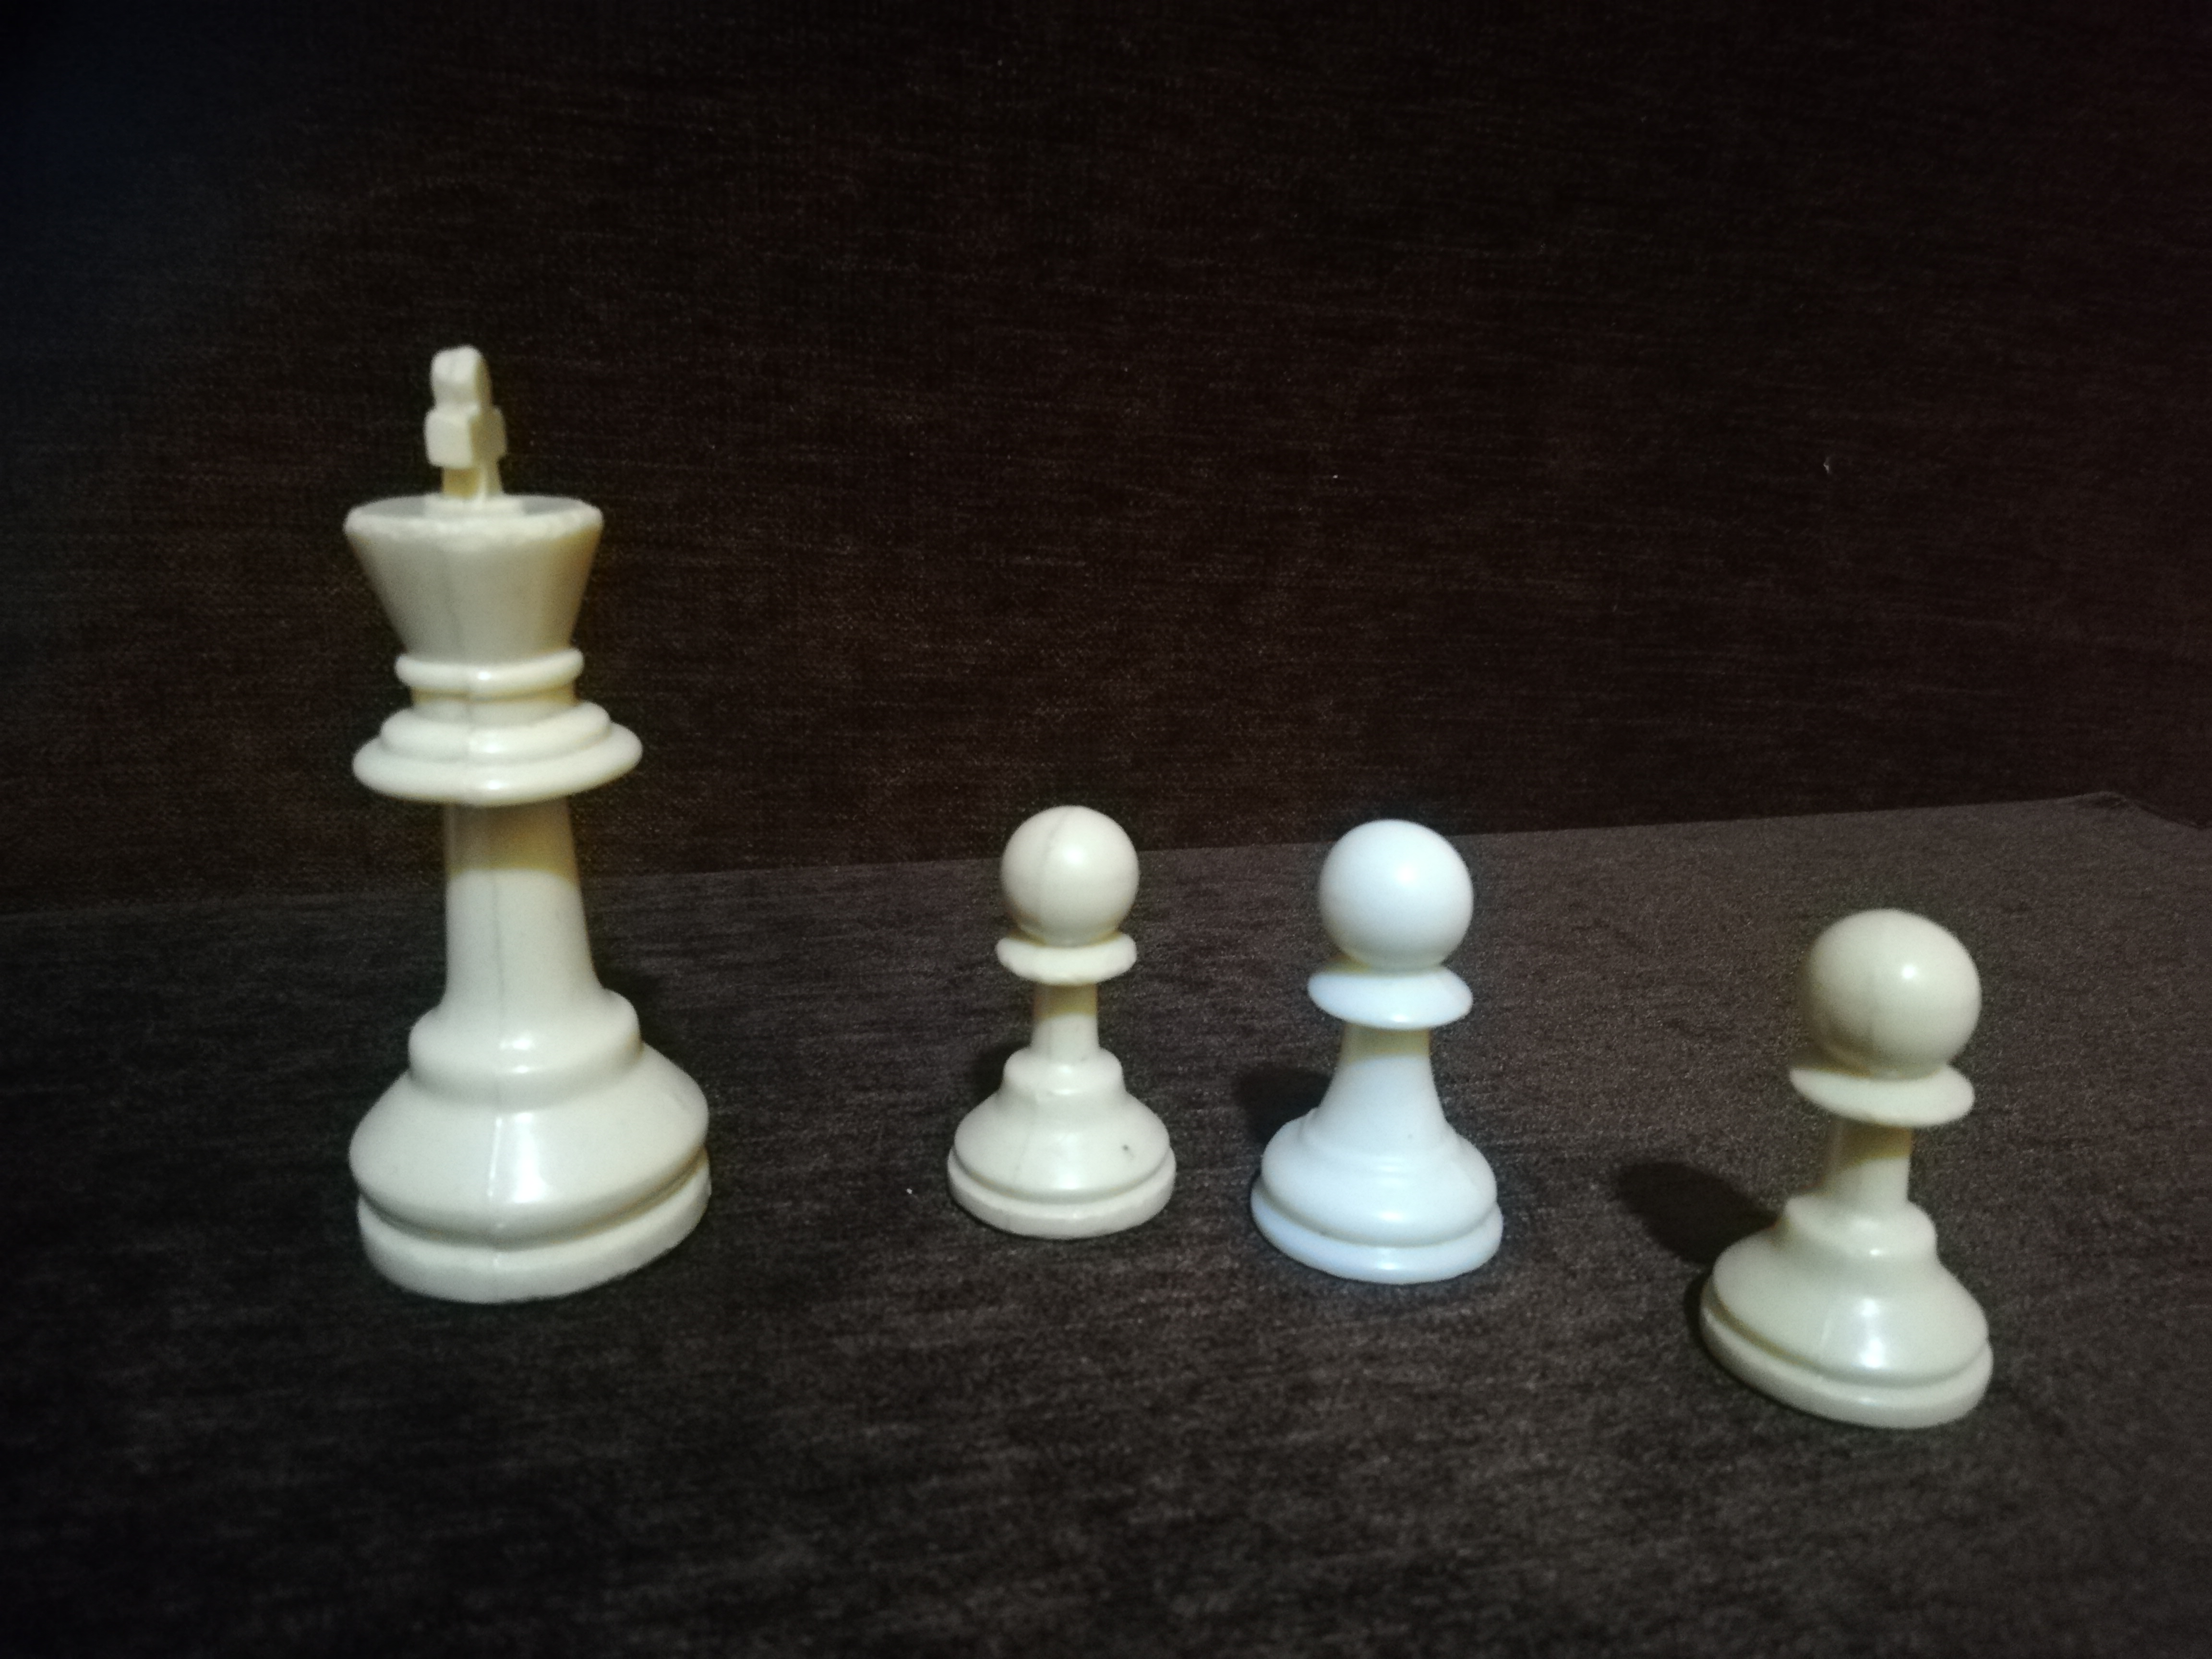King: (303, 333, 719, 1293)
Pawn: (1692, 870, 2015, 1437), (1258, 805, 1525, 1288), (947, 783, 1178, 1238)
